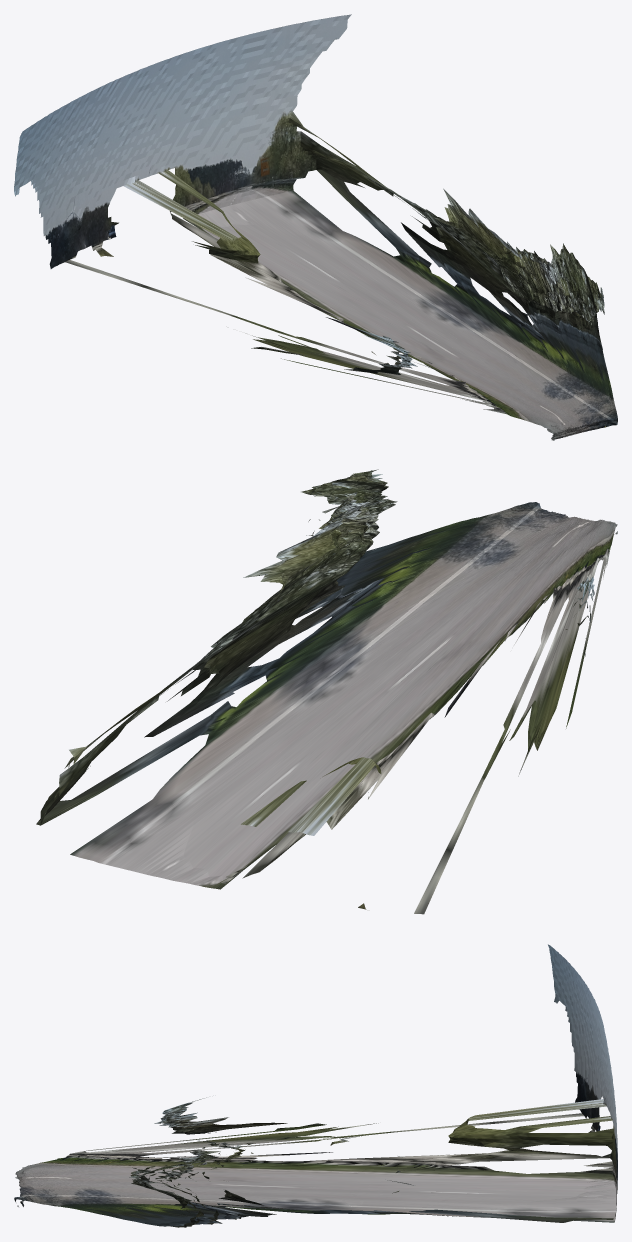
The picture shows the model from 3 angles, top to bottom: view 1: azimuth 30°, elevation 25°; view 2: azimuth 150°, elevation 25°; view 3: azimuth 270°, elevation 25°; orthographic projection. The views are drawn at different scales.
Parts seen in each view (by area): view 1: defaultobject; view 2: defaultobject; view 3: defaultobject.
Part boxes in pixels (x1,y1,x2,y2): defaultobject: (14, 14, 617, 440); defaultobject: (36, 469, 617, 914); defaultobject: (14, 944, 617, 1227).
Size of the model in its own units: 28.99 by 12.73 by 44.46.
1 material, 1 textured.
